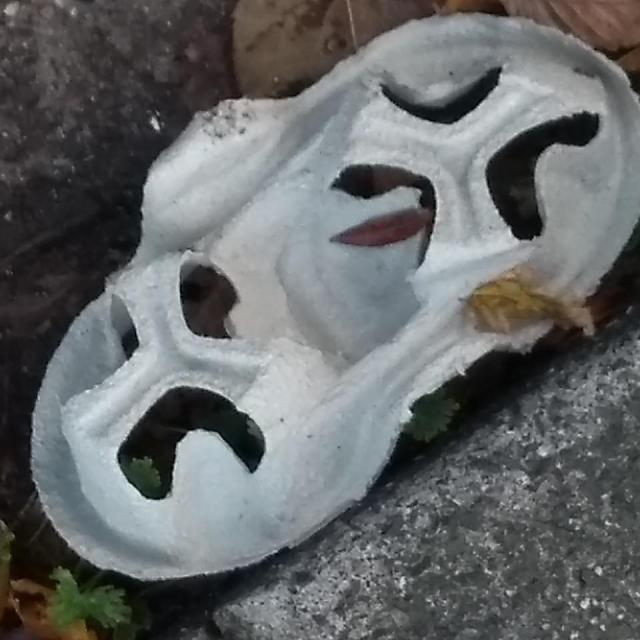Can-Metal: (7, 104, 13, 120)
Paper: (24, 11, 640, 590)
